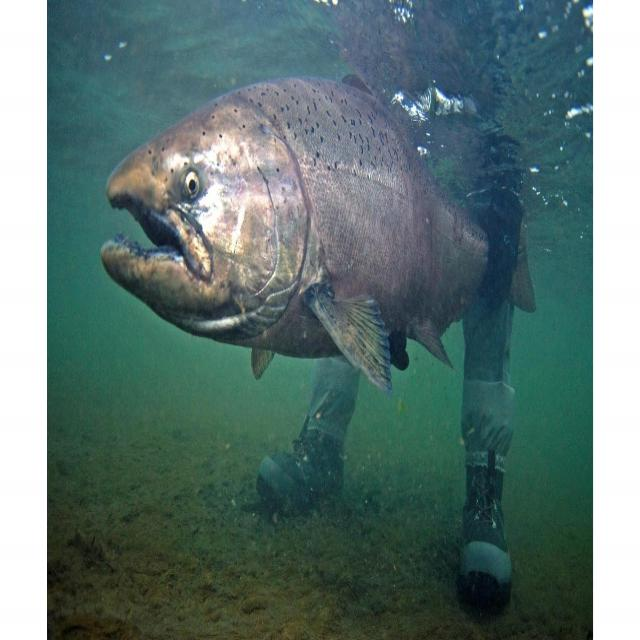salmon: (94, 58, 543, 387)
